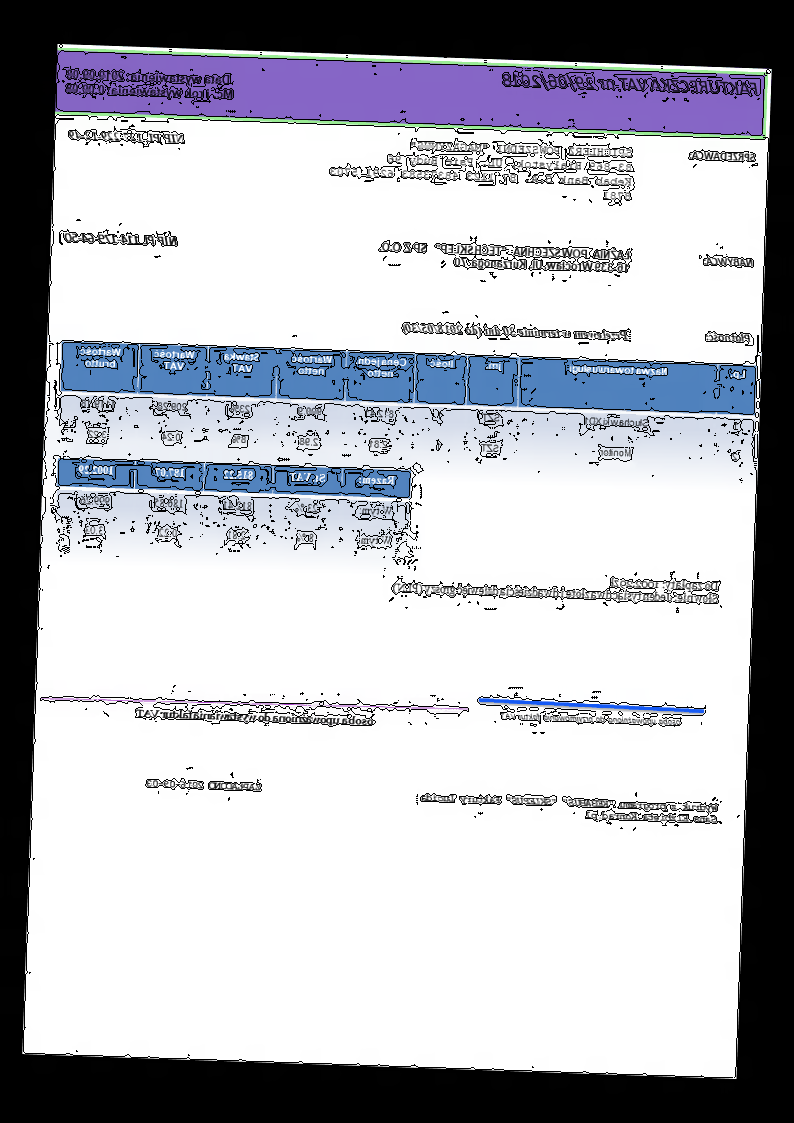Table: (56, 339, 760, 479), (53, 456, 413, 561)
TextBox: (327, 135, 635, 203), (391, 567, 721, 607), (419, 790, 720, 825), (378, 237, 632, 275), (500, 69, 761, 99), (64, 66, 237, 102), (134, 704, 376, 729), (399, 320, 631, 345), (499, 710, 684, 729), (67, 127, 187, 147), (61, 231, 180, 248), (145, 777, 263, 794), (687, 148, 758, 164), (700, 254, 757, 269), (704, 329, 753, 345)
